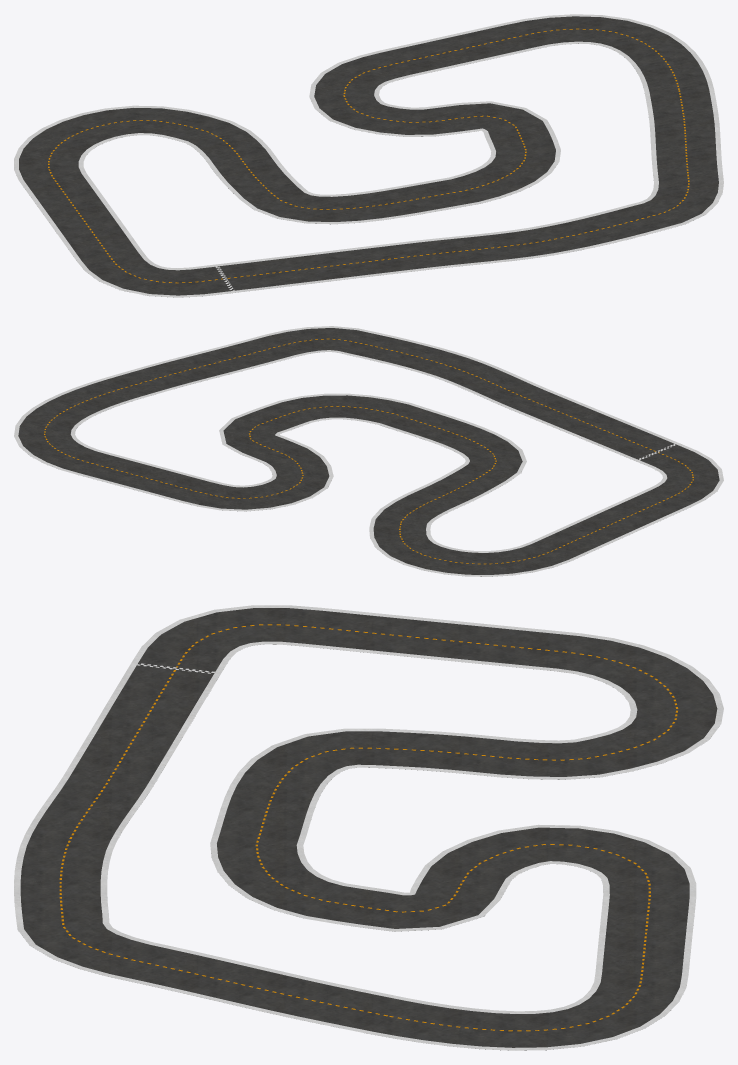
Rendered from 2022_july_open.dae.
3 renders of one model, top to bottom at view 1: azimuth 30°, elevation 25°; view 2: azimuth 150°, elevation 25°; view 3: azimuth 270°, elevation 25°, orthographic. The views are drawn at different scales.
Parts seen in each view (by area): view 1: road, il, ol, cl; view 2: road, il, ol, cl; view 3: road, il, ol, cl.
Boxes of the visible parts, x1=… form: road: x1=19, y1=16, x2=718, y2=297; il: x1=14, y1=14, x2=723, y2=297; ol: x1=78, y1=41, x2=658, y2=270; cl: x1=48, y1=28, x2=689, y2=283; road: x1=18, y1=328, x2=719, y2=576; il: x1=14, y1=326, x2=723, y2=576; ol: x1=70, y1=350, x2=667, y2=552; cl: x1=44, y1=338, x2=693, y2=564; road: x1=20, y1=608, x2=717, y2=1050; il: x1=14, y1=605, x2=723, y2=1050; ol: x1=100, y1=641, x2=637, y2=1013; cl: x1=59, y1=624, x2=678, y2=1031.
Size of what is drawn, in the model's own units: 12.05 by 8.12 by 0.0015.
5 materials, 5 textured.
